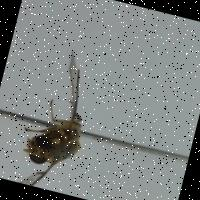Oriental-fruit-fly: (1, 36, 116, 198)
